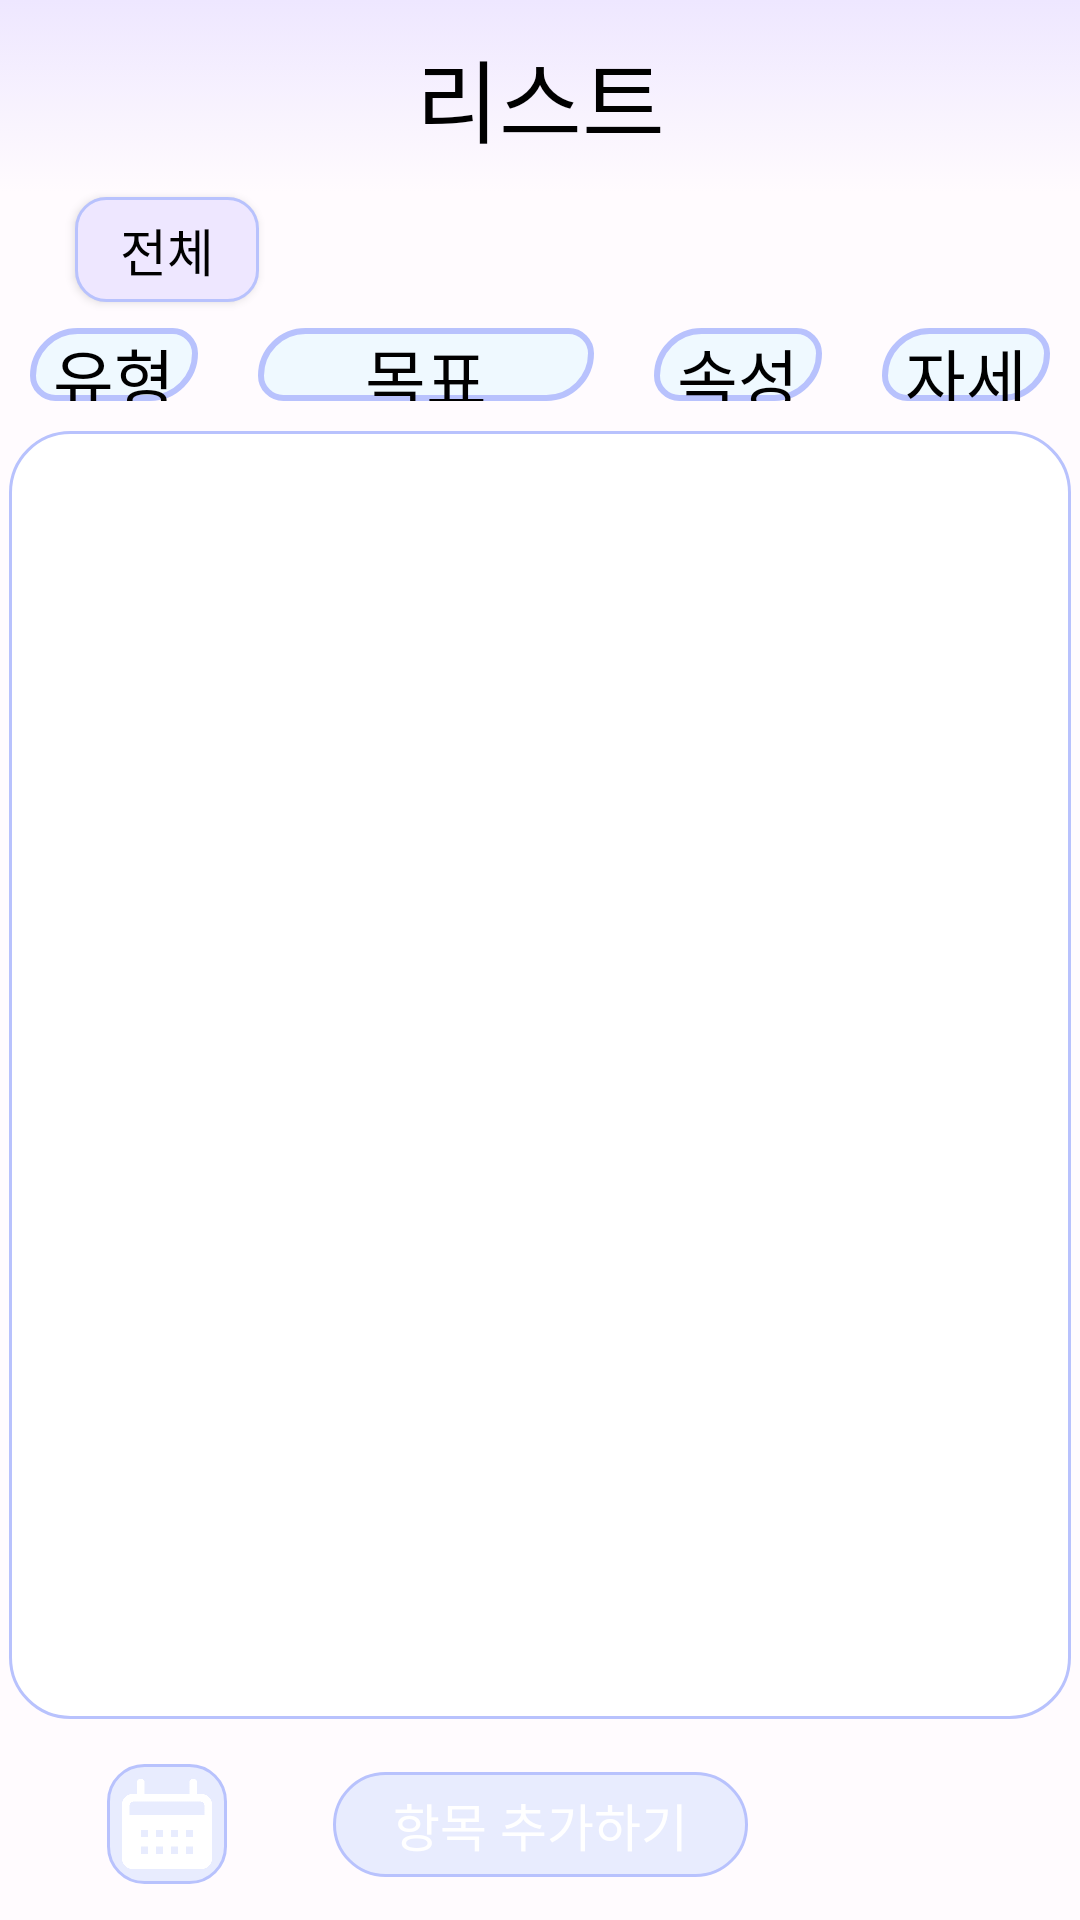

Locate icon controls on the screen. Image size 1080px x 1920px, boxes as [x1, y1, x2, y2].
calendar: [107, 1764, 227, 1884]
